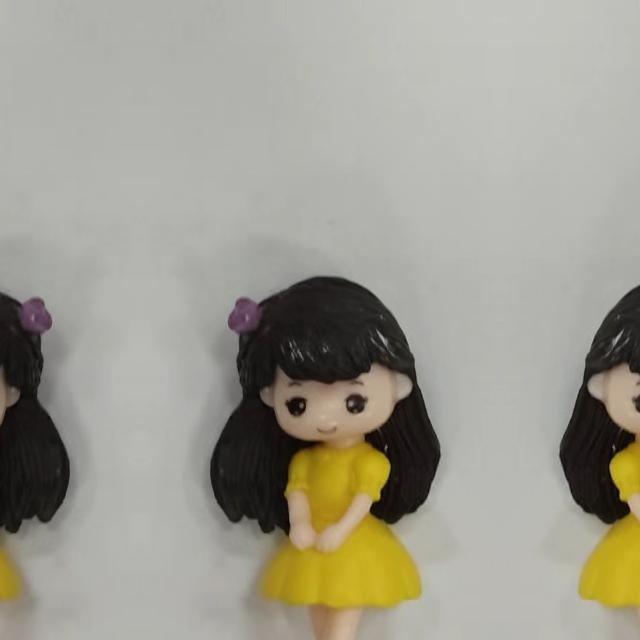woman dress: (266, 418, 428, 640), (572, 418, 640, 640), (0, 418, 14, 640)
woman head: (219, 272, 417, 446), (0, 272, 61, 446), (583, 272, 640, 446)
